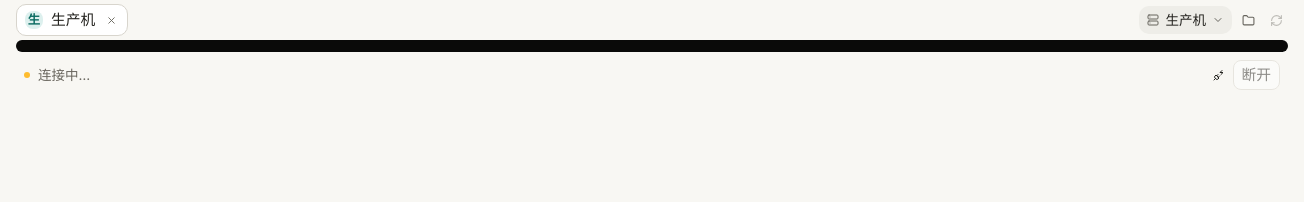
Test: SshTerminalPanel 终端态 › keeps the upload control disabled unless connected
The width and height of the screenshot is (1304, 202).
Step 1. Click the button named "打开文件浏览器" → point(1248, 20), box [1236,8,1260,32]
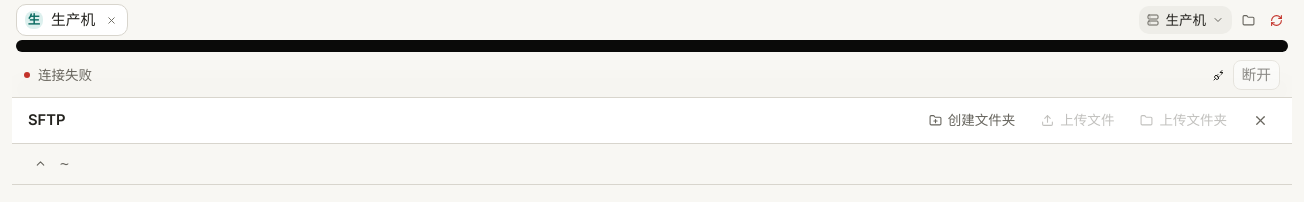
Check: the button "上传文件" is disabled, box [1033,106,1122,135]
